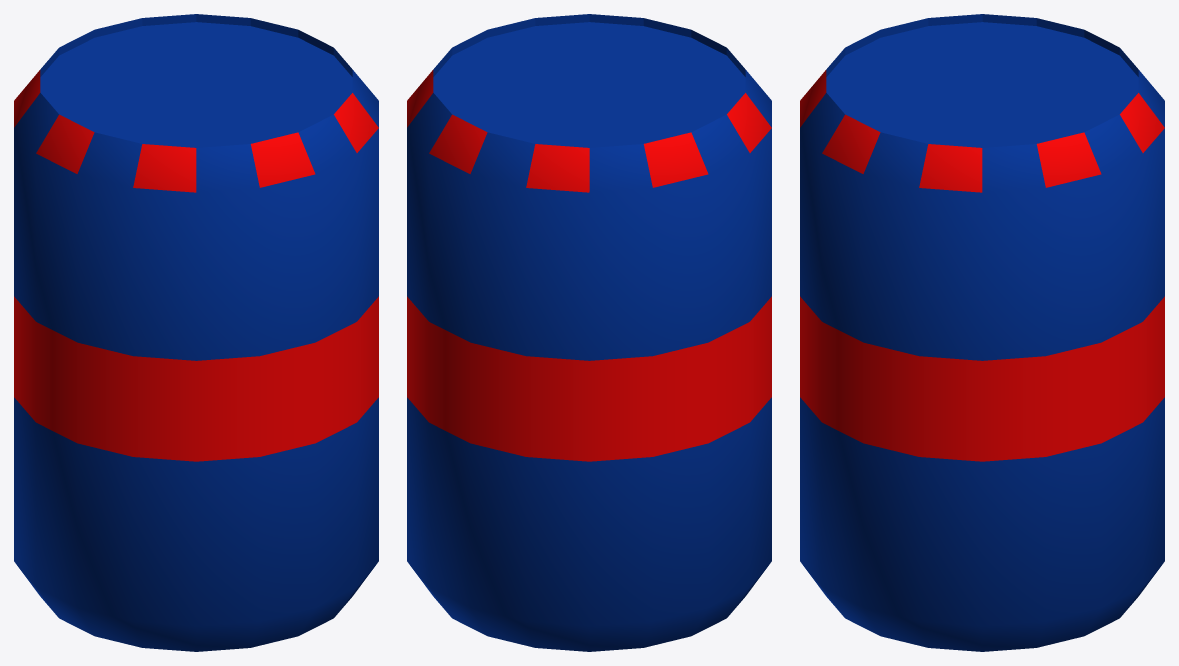
File: Can.fbx
3 renders of one model, left to right at view 1: azimuth 30°, elevation 25°; view 2: azimuth 150°, elevation 25°; view 3: azimuth 270°, elevation 25°, orthographic.
Parts seen in each view (by area): view 1: Cylinder001; view 2: Cylinder001; view 3: Cylinder001.
Boxes of the visible parts, x1,y1,x2,y2 form: Cylinder001: (14,14,378,651); Cylinder001: (407,14,771,651); Cylinder001: (800,14,1164,651).
Size of the model in its own units: 17.7 by 26.56 by 17.43.
